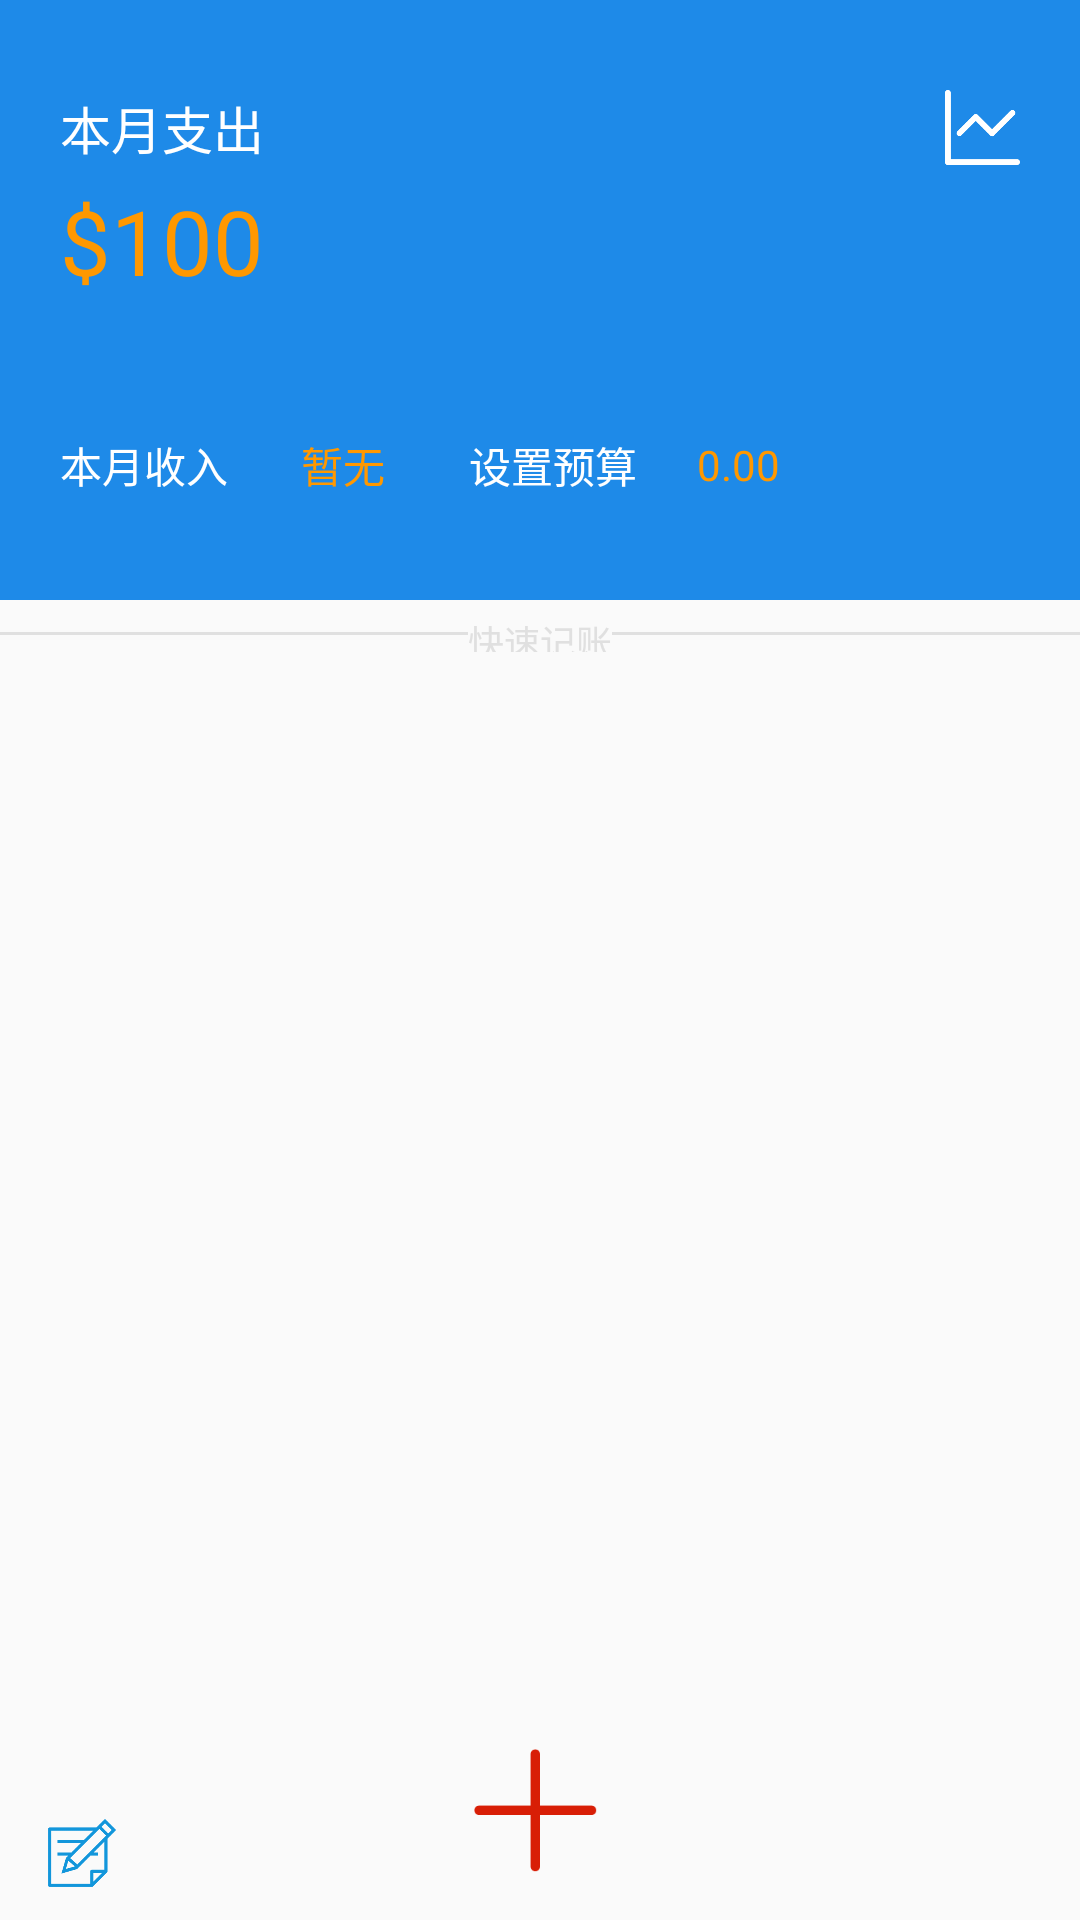

Icons on this 1080w x 1920h Android screen, each with the point to tap as (x,y):
add: (535,1810)
quickwriteblue: (82,1853)
statisticswhite: (982,127)
